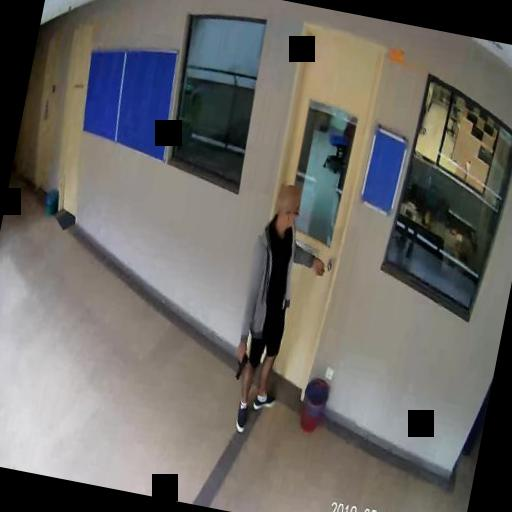Handgun: (232, 350, 248, 380)
